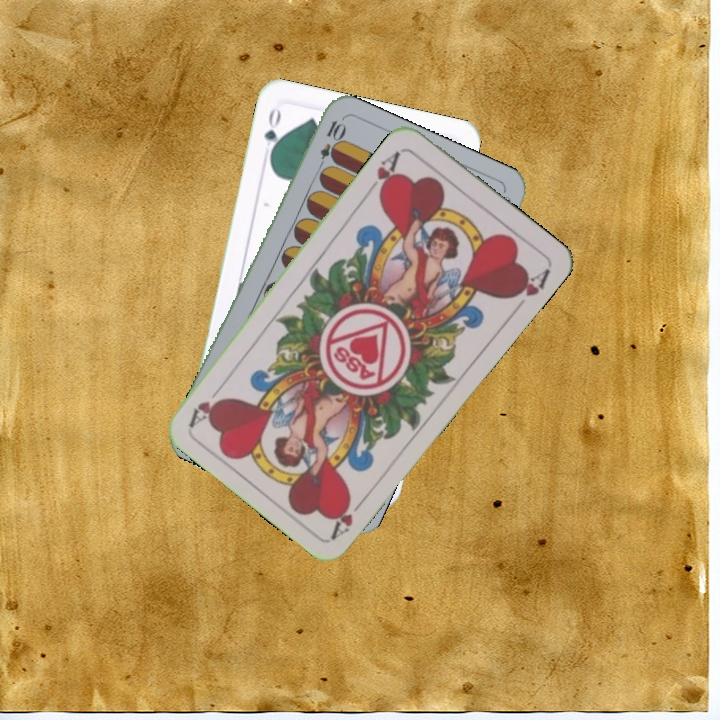E10: (313, 116, 346, 174)
GO: (260, 104, 284, 162)
HA: (327, 490, 370, 541), (363, 147, 404, 200)
